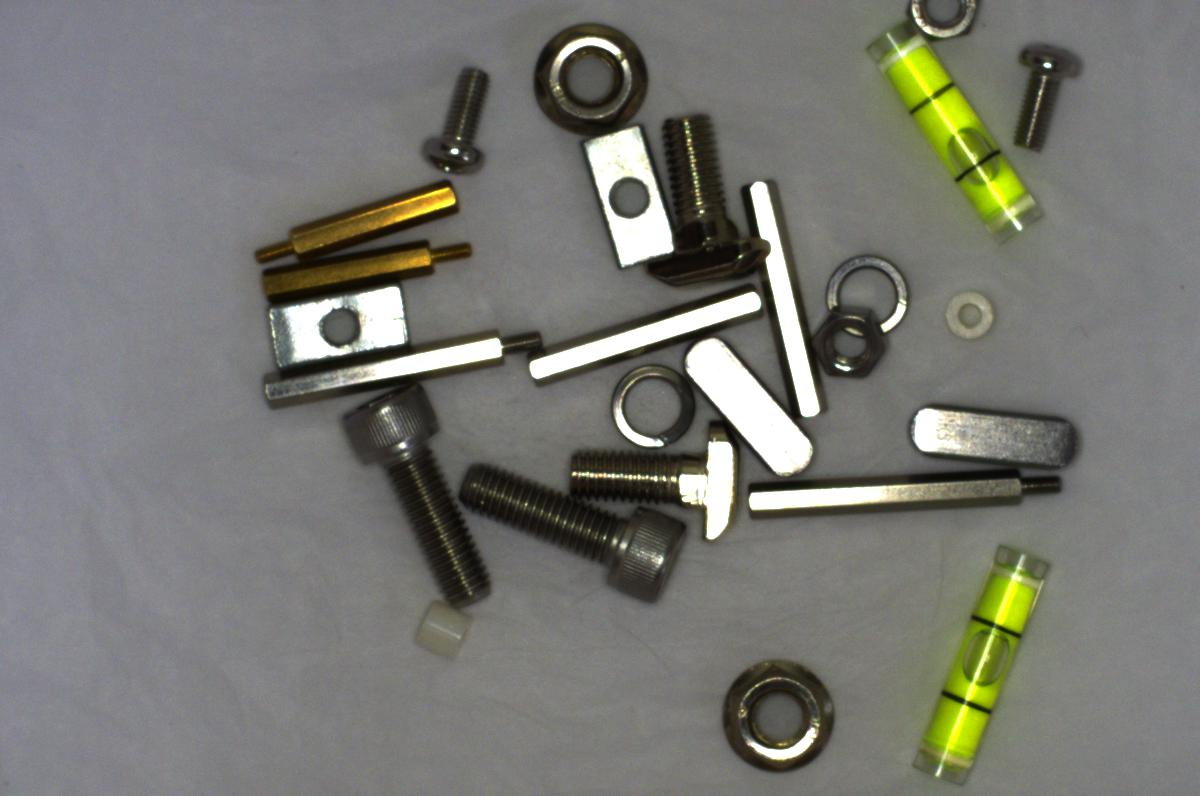Double hexagonal column: (514, 278, 767, 386), (742, 162, 828, 424)
Flange nut: (707, 648, 842, 778), (521, 12, 655, 135)
Hexagon nut: (800, 301, 891, 383), (897, 1, 996, 49)
Hexagon pillar: (250, 177, 465, 267), (247, 237, 480, 301)
Hexagon screw: (458, 467, 696, 609), (350, 378, 489, 604)
Hexagonal steel column: (252, 315, 544, 404), (753, 455, 1073, 518)
Horizontal bubble: (874, 21, 1052, 246), (921, 536, 1044, 790)
Keybar: (675, 340, 815, 477), (894, 403, 1103, 477)
Plastic cushion pillar: (402, 592, 482, 662), (941, 281, 1002, 349)
Rectangular nut: (580, 113, 675, 278), (260, 281, 408, 371)
Round head screw: (415, 64, 498, 177), (1006, 30, 1084, 150)
Spring washer: (828, 240, 917, 333), (611, 363, 697, 446)
T-shaped screw: (570, 424, 750, 541), (658, 100, 758, 289)
